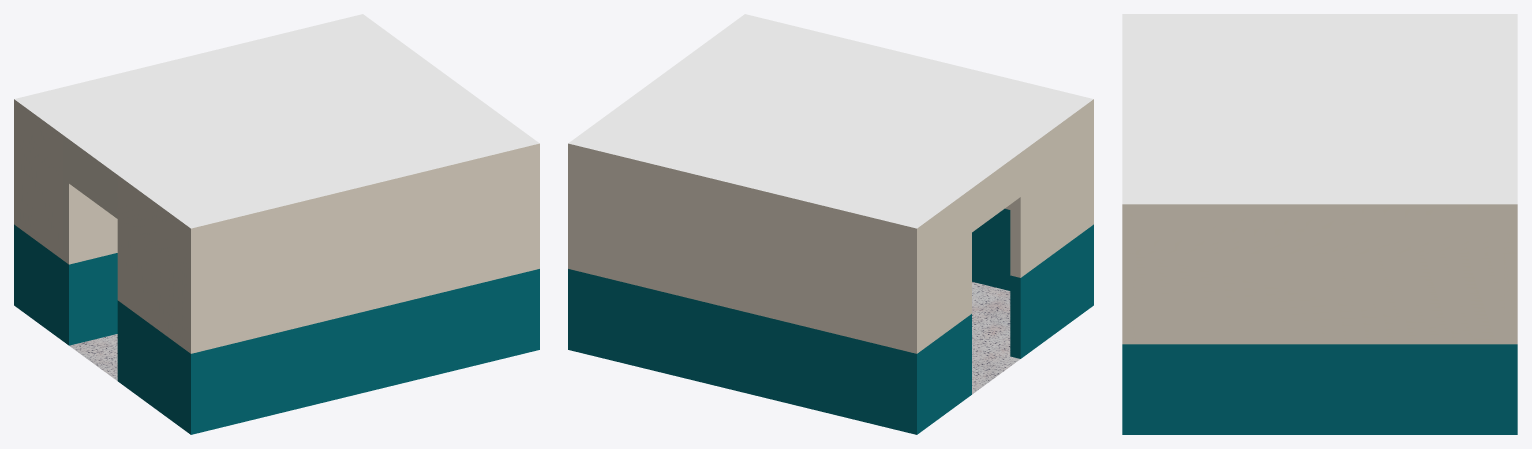
Rendered from ARQ-24.fbx.
The picture shows the model from 3 angles, left to right: view 1: azimuth 30°, elevation 25°; view 2: azimuth 150°, elevation 25°; view 3: azimuth 270°, elevation 25°; orthographic projection. The views are drawn at different scales.
Parts seen in each view (by area): view 1: Pared, Techo, Piso; view 2: Pared, Techo, Piso; view 3: Pared, Techo.
Part boxes in pixels (box(x1,y1,x2,y2)): Pared: box(14, 99, 539, 434); Techo: box(14, 14, 539, 228); Piso: box(69, 334, 117, 380); Pared: box(568, 99, 1093, 434); Techo: box(568, 14, 1093, 228); Piso: box(972, 282, 1020, 394); Pared: box(1122, 204, 1517, 434); Techo: box(1122, 14, 1517, 204).
Bounding box in the file's own units: 495 × 280 × 435.
Materials: 4 (1 with a texture image).
